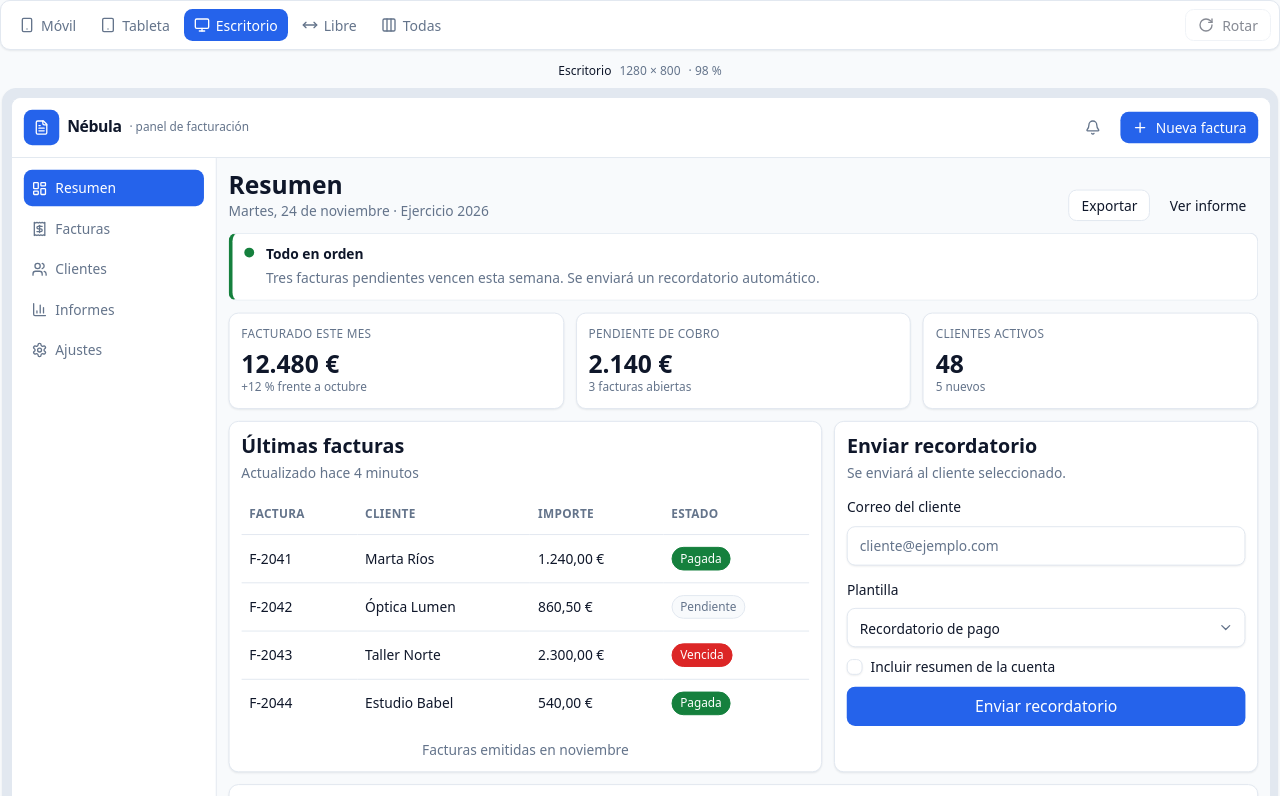
Test: DevicePreview › muestra un marco libre con el ancho que fija el control
The width and height of the screenshot is (1280, 796).
Click the button "Libre" at [329, 25], box [292,9,367,41]
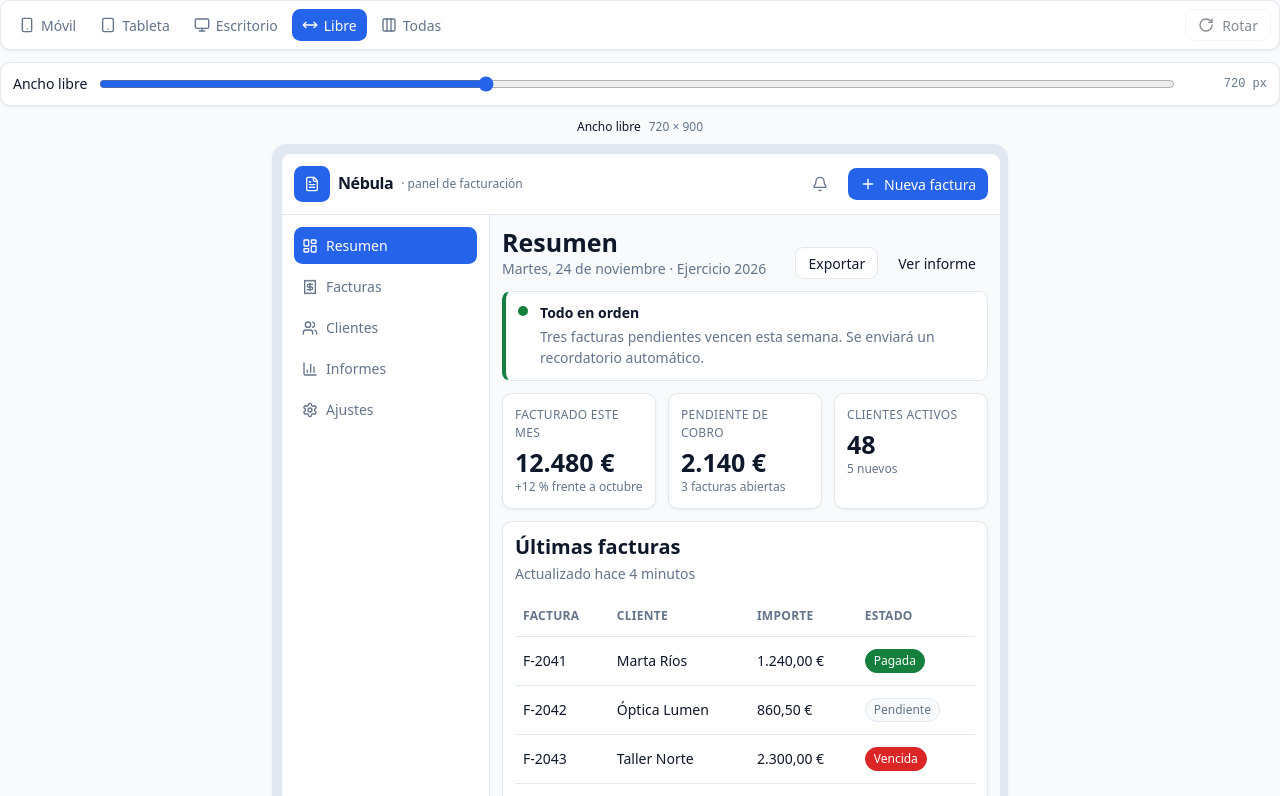
Set the slider labelled "Ancho libre" to "500" at [278, 84], box [99,80,1175,88]
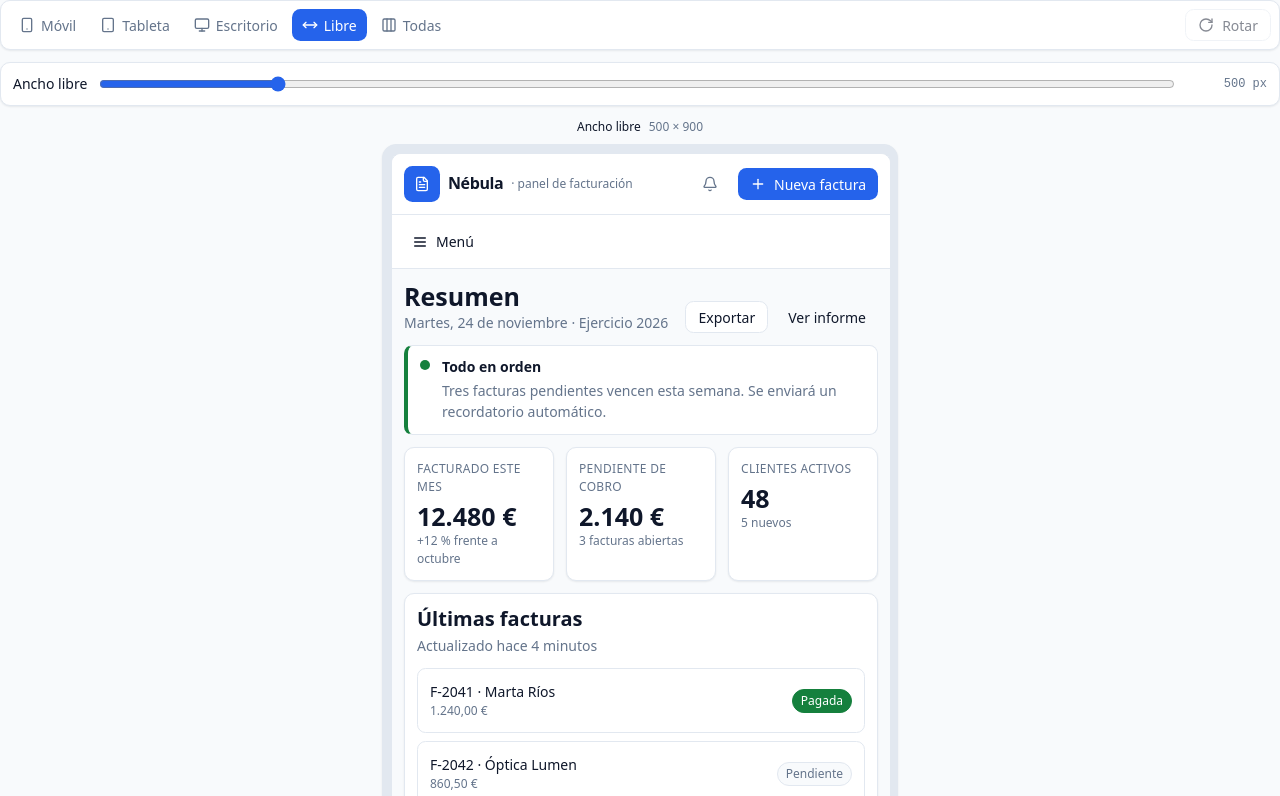
Check: the text "500 px" is shown, box [1224,77,1267,91]
